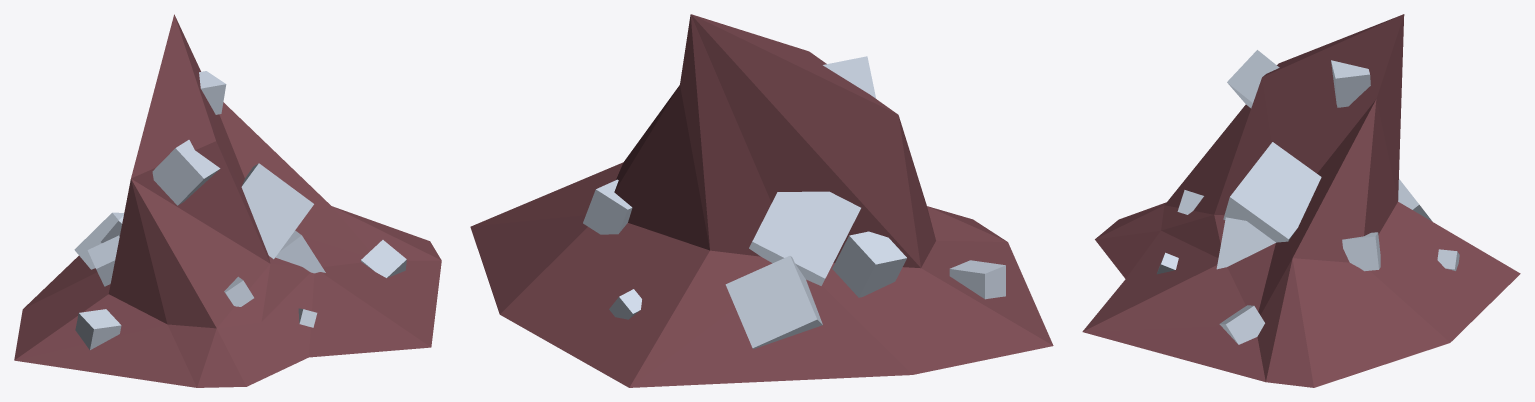
File: cubeore_6.fbx
3 views of the same model, side by side, from view 1: azimuth 30°, elevation 25°; view 2: azimuth 150°, elevation 25°; view 3: azimuth 270°, elevation 25° (orthographic). The views are drawn at different scales.
Parts seen in each view (by area): view 1: Cube; view 2: Cube; view 3: Cube.
Boxes of the visible parts, box(x1,y1,x2,y2) form: Cube: box(14, 14, 441, 387); Cube: box(470, 14, 1053, 387); Cube: box(1082, 14, 1520, 387).
Bounding box in the file's own units: 519 × 297 × 428.
